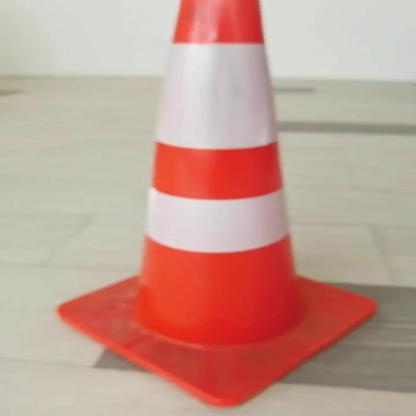cone: (21, 2, 388, 405)
